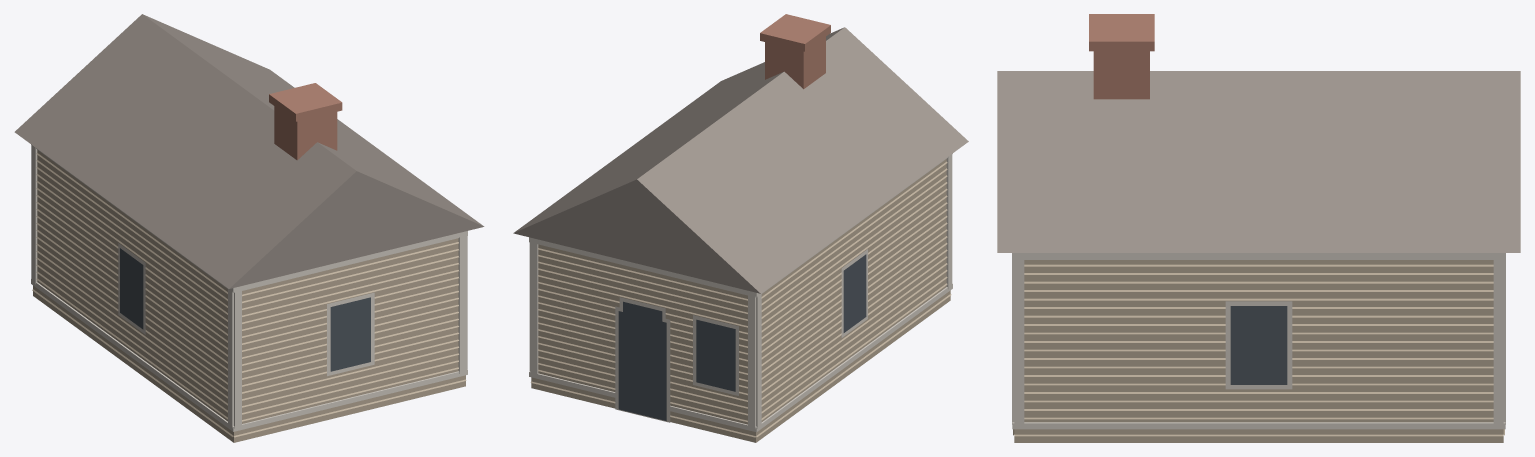
File: inf_shoemaker_shop__inferred_1835.glb
The picture shows the model from 3 angles, left to right: view 1: azimuth 30°, elevation 25°; view 2: azimuth 150°, elevation 25°; view 3: azimuth 270°, elevation 25°; orthographic projection. The views are drawn at different scales.
Parts seen in each view (by area): view 1: inf_shoemaker_shop__inferred_1835; view 2: inf_shoemaker_shop__inferred_1835; view 3: inf_shoemaker_shop__inferred_1835.
Part boxes in pixels (x1,y1,x2,y2): inf_shoemaker_shop__inferred_1835: (14,14,484,442); inf_shoemaker_shop__inferred_1835: (513,14,968,442); inf_shoemaker_shop__inferred_1835: (997,14,1520,442).
Size of the model in its own units: 5.38 by 5.71 by 7.82.
